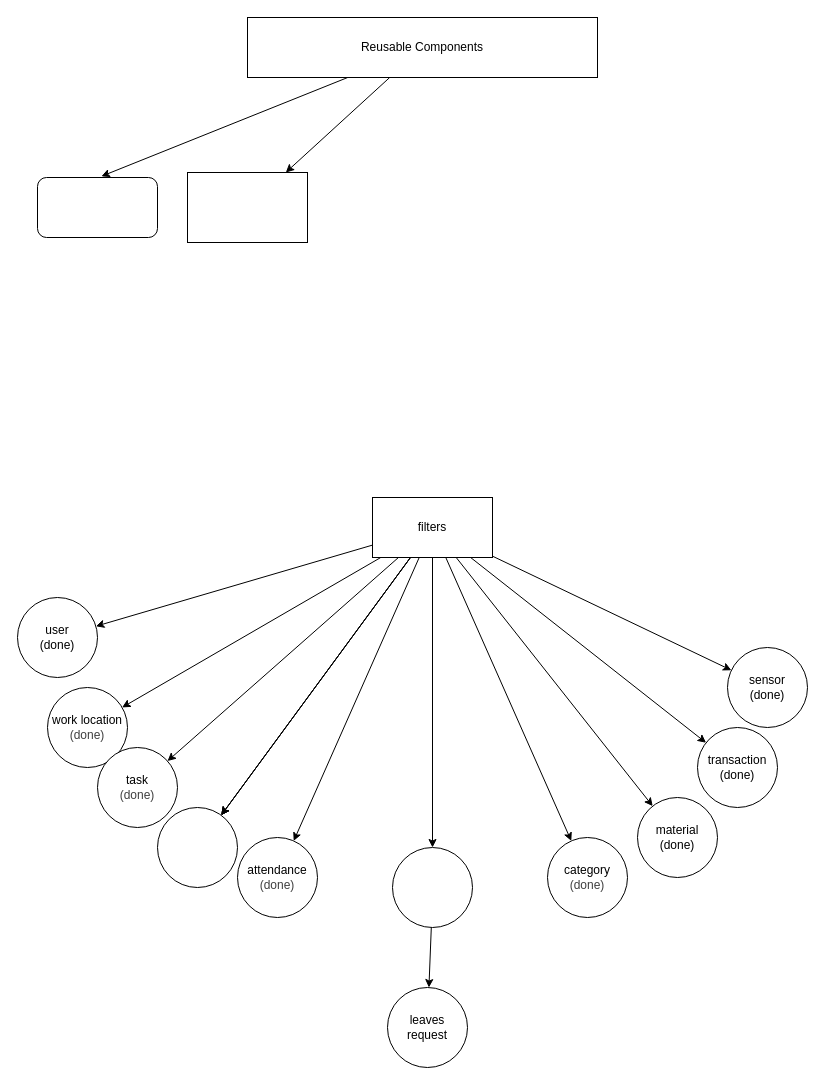
Image size: 825x1085. Some labels were removed from this diagram. Here are the shapes that lost their labels. From the top down, the centre of each, then its label:
At pixel 97 207: "filter component (done)".
At pixel 247 207: "table data (done)".
At pixel 197 847: "shift (done)".
At pixel 432 887: "Leaves (done)".
